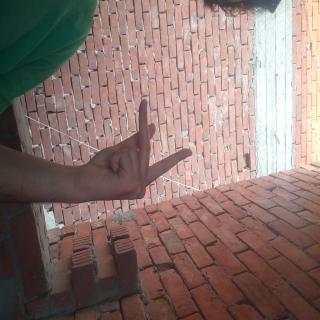DHAA: (72, 168, 154, 320)
